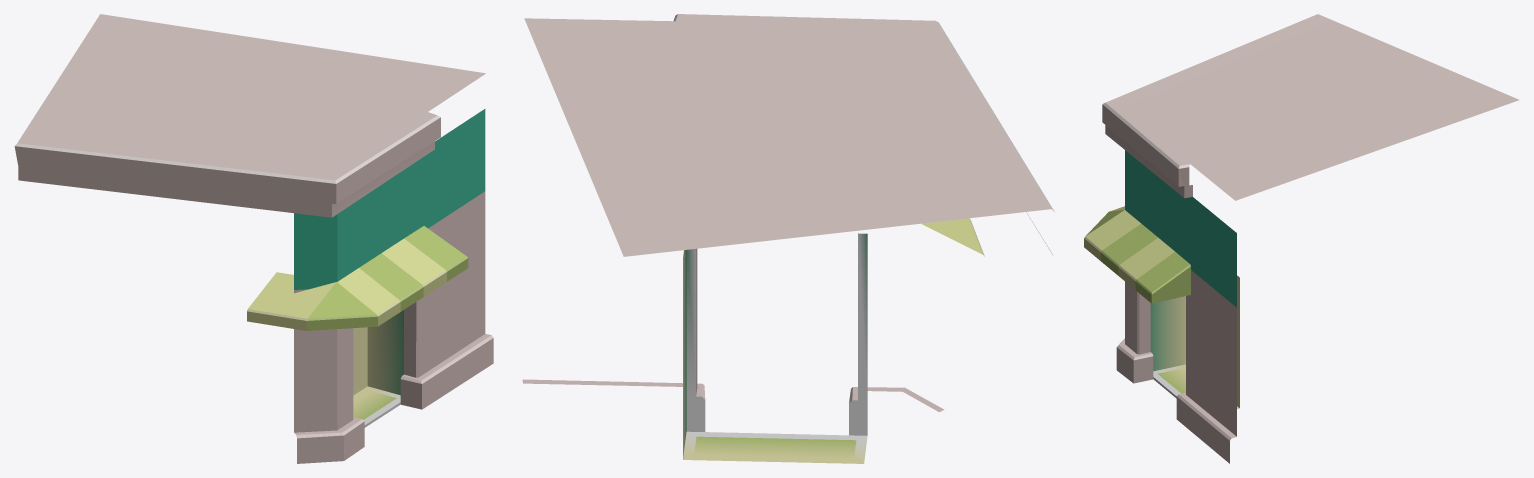
File: CafeBuilding_0.glb
The picture shows the model from 3 angles, left to right: view 1: azimuth 30°, elevation 25°; view 2: azimuth 150°, elevation 25°; view 3: azimuth 270°, elevation 25°; orthographic projection. The views are drawn at different scales.
Parts seen in each view (by area): view 1: CafeBuilding; view 2: CafeBuilding; view 3: CafeBuilding.
Boxes of the visible parts, box(x1,y1,x2,y2) form: CafeBuilding: box(14, 14, 493, 463); CafeBuilding: box(522, 14, 1054, 463); CafeBuilding: box(1084, 14, 1519, 463).
Bounding box in the file's own units: 6.46 × 4.14 × 6.26.
